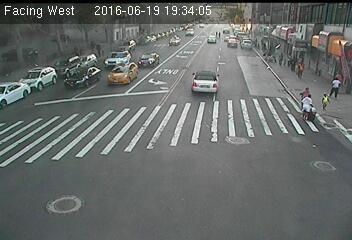neg: (213, 44, 224, 59), (58, 32, 67, 44), (27, 46, 36, 57)
pos: (298, 93, 317, 117), (328, 76, 344, 96), (320, 90, 334, 109), (295, 60, 308, 77), (288, 55, 299, 69), (277, 50, 287, 64), (303, 84, 312, 95)
